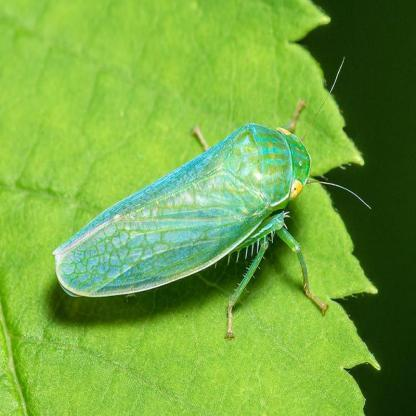green-leafhopper: (58, 122, 310, 312)
